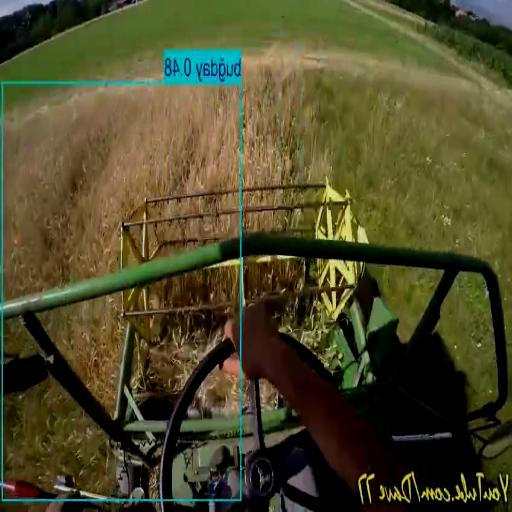bugday: (5, 86, 240, 297), (242, 63, 298, 185)
